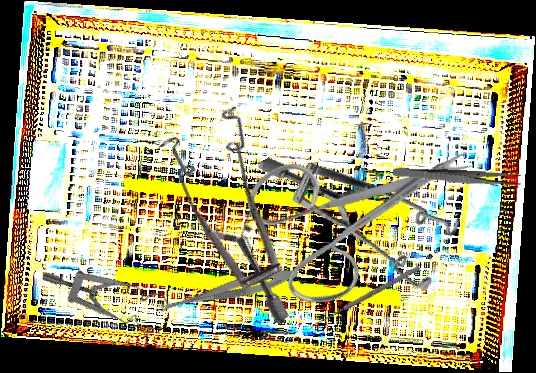Dressing Forceps: (392, 166, 522, 187)
Hook Surgical: (308, 263, 424, 335)
Iris Scissors: (216, 69, 481, 343)
Micro Scissor: (153, 262, 300, 322)
Speculum: (119, 85, 370, 326), (256, 90, 482, 333), (39, 225, 177, 359)
